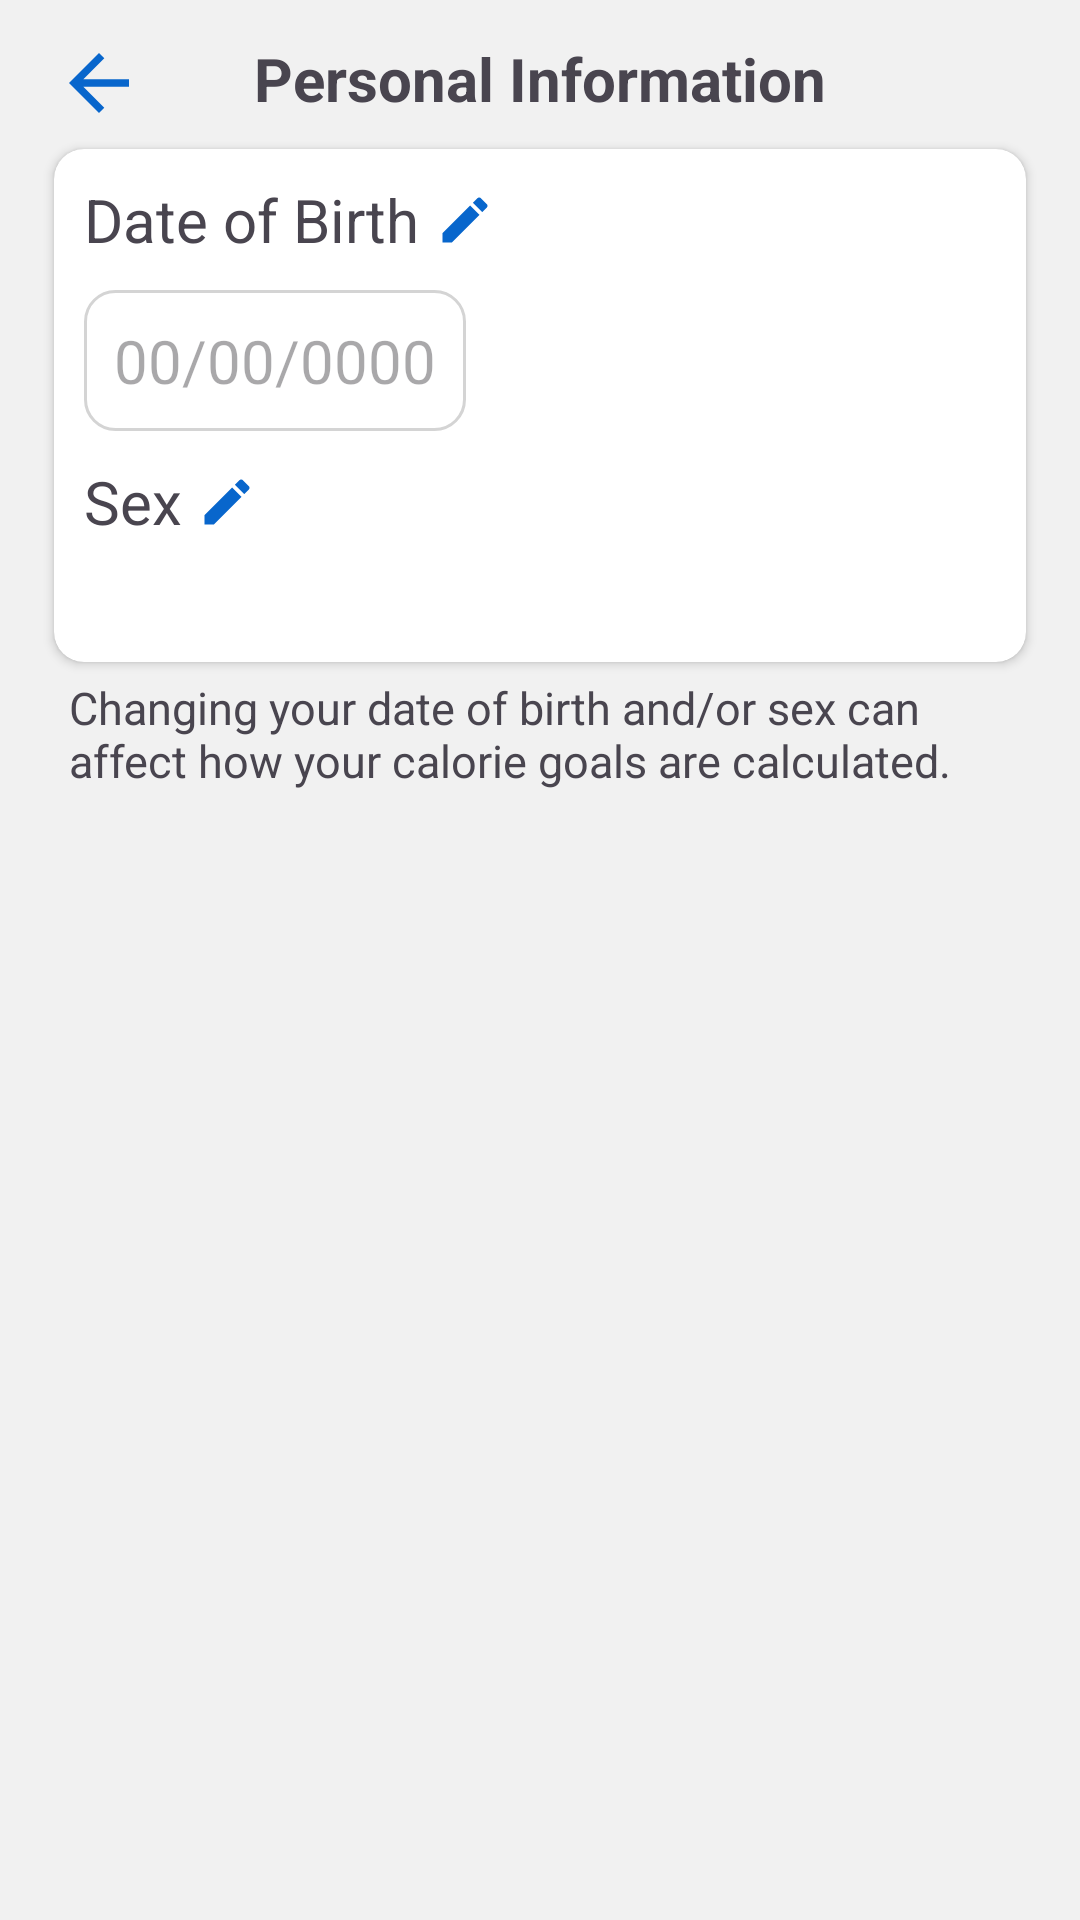

Named icons in this screenshot (1080*1920) and their bounding boxes, rect(x1, y1, x2, y2):
back arrow: rect(69, 53, 129, 113)
edit: rect(442, 197, 488, 243), rect(204, 479, 250, 525)
